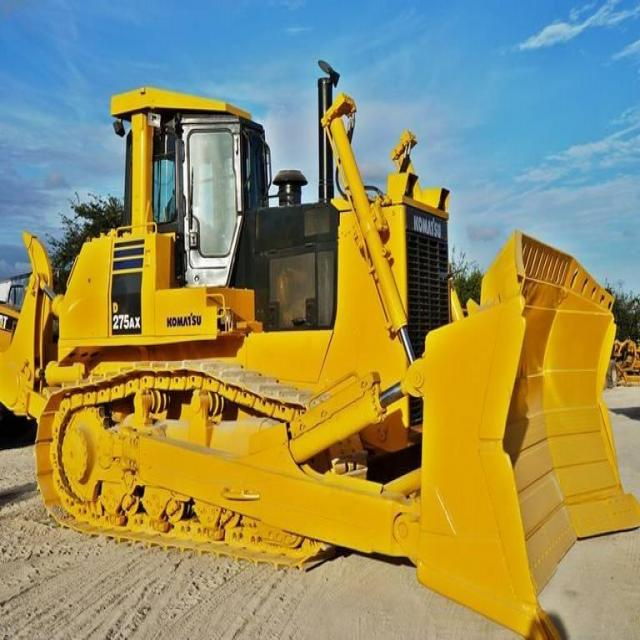Bulldozer: (3, 52, 639, 638)
